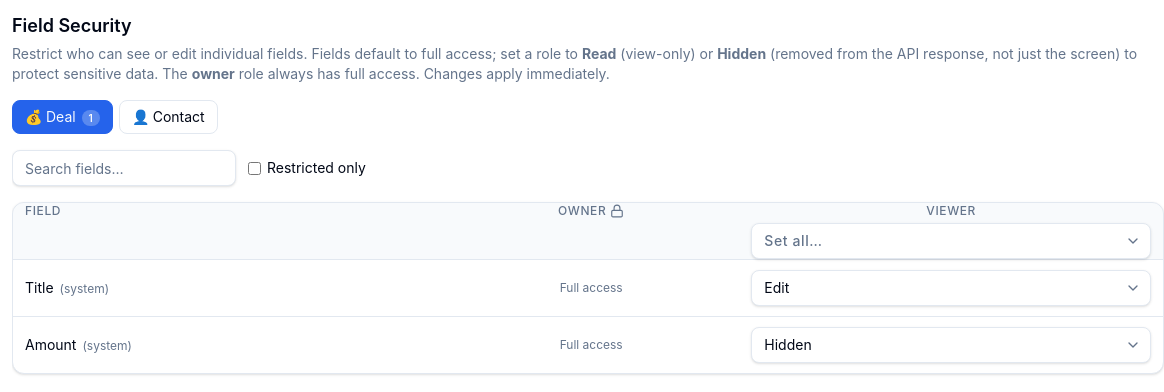
Test case: FieldSecurityManager — field × role level grid › search filters fields by label and by key, with an N-of-M count
This screenshot has width=1164, height=392.
Expected: the text "Title" is shown, [25,279,54,296]
Type "amo" into the search field labelled "Search fields". click: (124, 168)
box: [12,150,236,186]
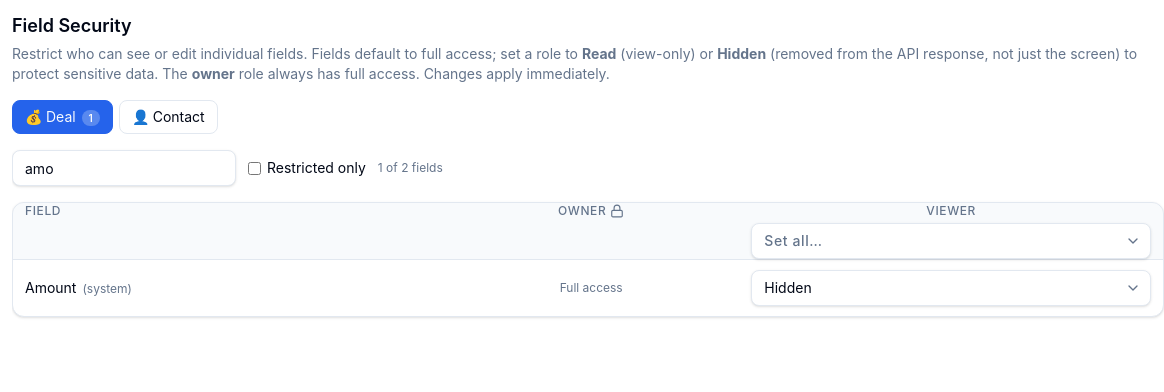
Expected: the text "Amount" is shown, [25,279,76,296]
Expected: the text "Title" is gone
Expected: the text "1 of 2 fields" is shown, [378,160,443,176]
Replace the text in the search field named "Search fields" with "titl". click: (124, 168)
box: [12,150,236,186]
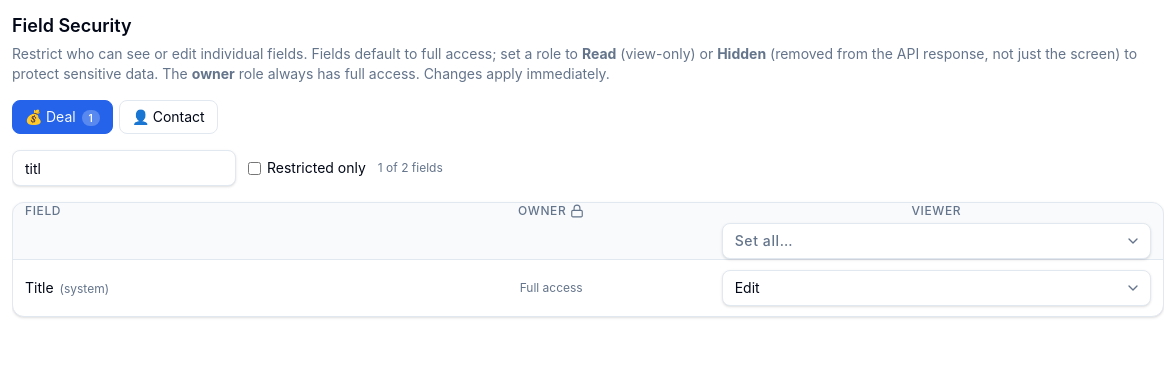
Expected: the text "Title" is shown, [25,279,54,296]
Expected: the text "Amount" is gone
Replace the text in the search field named "Search fields" with "value". click: (124, 168)
box: [12,150,236,186]
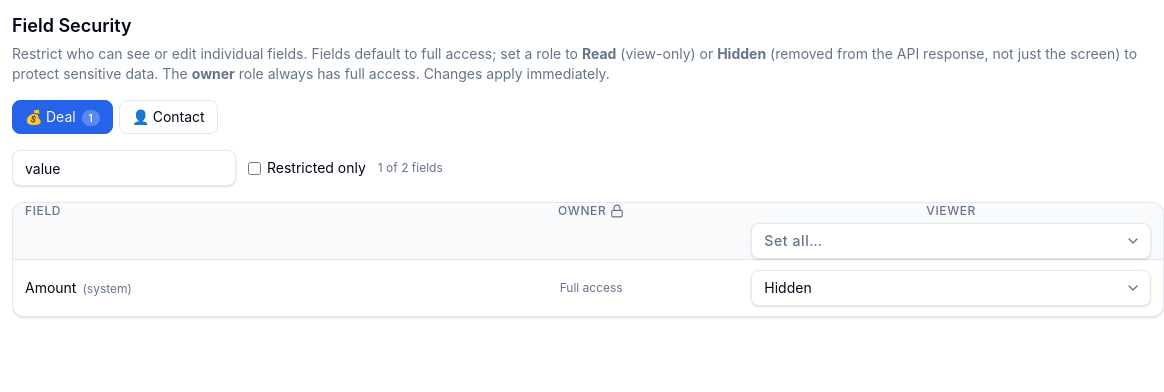
Expected: the text "Amount" is shown, [25,279,76,296]
Expected: the text "Title" is gone
